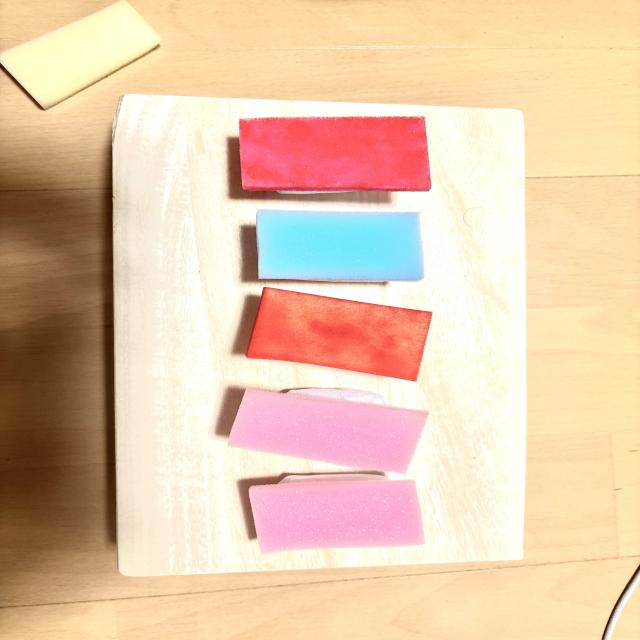ika: (257, 210, 423, 282)
maguro: (239, 116, 431, 192)
salmon: (246, 287, 432, 381)
tai: (228, 388, 427, 473), (250, 474, 424, 553)
